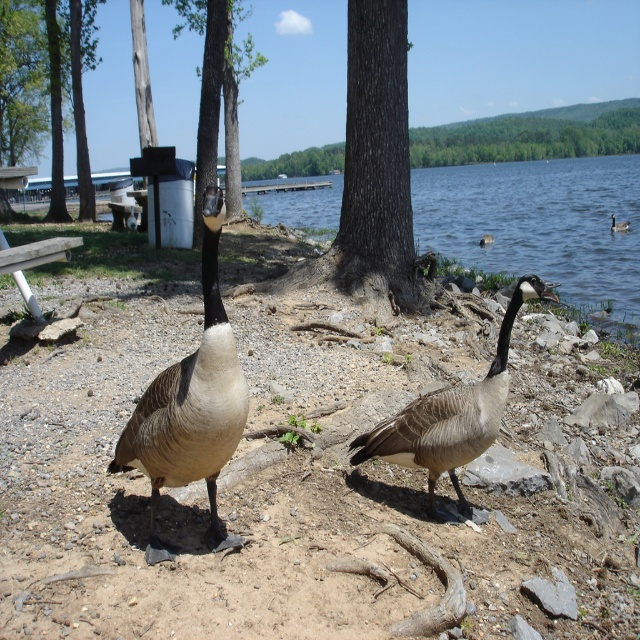Goose: (345, 271, 560, 526), (108, 182, 250, 565)
